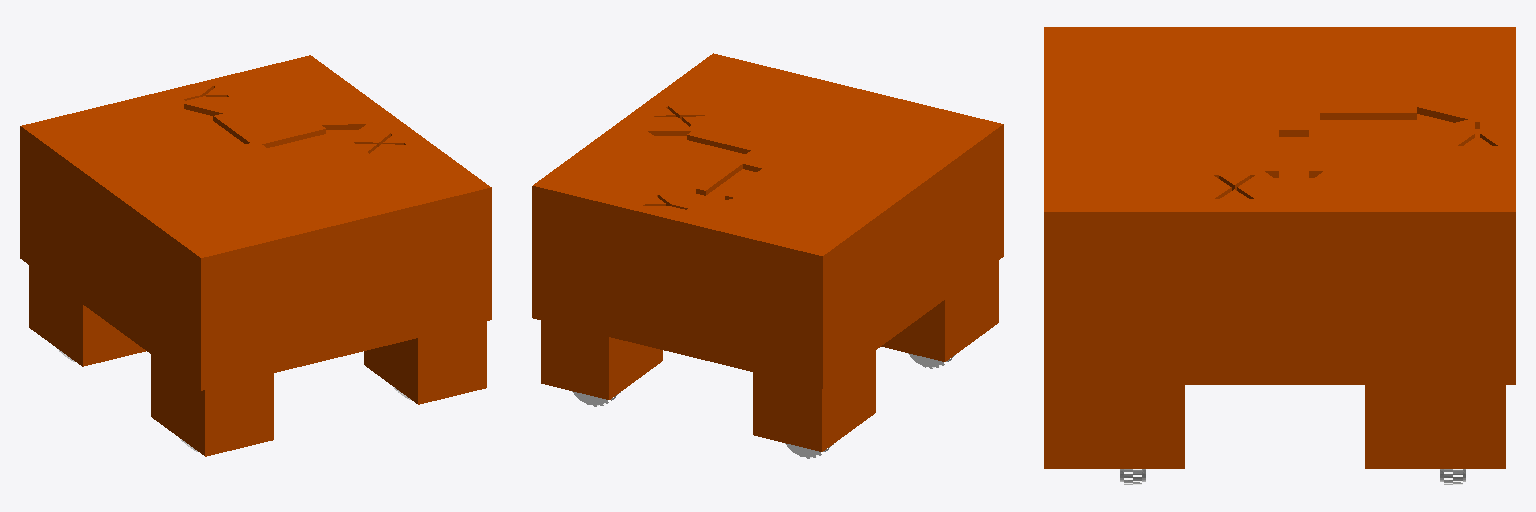
The robot description file, URDF, robot "swerve-steer":
<?xml version="1.0" ?>
<!-- =================================================================================== -->
<!-- |    This document was autogenerated by xacro from swerve_steer.xacro             | -->
<!-- |    EDITING THIS FILE BY HAND IS NOT RECOMMENDED                                 | -->
<!-- =================================================================================== -->
<robot name="swerve-steer" xmlns:xacro="http://www.ros.org/wiki/xacro">
  <!-- *************************** XACRO MACROS *************************** -->
  <!-- Parent Frame = a frame fixed to the base, centered on the axis of rotation for this flipper's steering DOF -->
  <!-- ************************* ROBOT DEFINITION ************************* -->
  <link name="world"/>
  <joint name="world_base" type="floating">
    <origin rpy="0 0 0" xyz="0 0 0"/>
    <parent link="world"/>
    <child link="dummy"/>
  </joint>
  <!-- just for visualization: base post -->
  <link name="dummy"/>
  <joint name="dummy_to_base" type="fixed">
    <origin rpy="0 0 0" xyz="0 0 0"/>
    <parent link="dummy"/>
    <child link="base_link"/>
  </joint>
  <link name="map"/>
  <joint name="world_map" type="fixed">
    <origin rpy="0 0 0" xyz="0 0 0"/>
    <parent link="world"/>
    <child link="map"/>
  </joint>
  <link name="base_link">
    <visual>
      <origin rpy="0 0 0" xyz="0 0 0"/>
      <geometry>
        <mesh filename="package://swerve_steer_description/meshes/Main_Box_Visual.stl"/>
      </geometry>
      <material name="burnt_orange">
        <color rgba="0.8 0.33 0.0 1"/>
      </material>
    </visual>
    <collision>
      <origin rpy="0 0 0" xyz="0 0 0"/>
      <geometry>
        <mesh filename="package://swerve_steer_description/meshes/Main_Box_Collision.stl"/>
      </geometry>
    </collision>
    <inertial>
      <origin rpy="0 0 0" xyz="0 0 0"/>
      <mass value="50"/>
      <inertia ixx="0.01" ixy="0.01" ixz="0.1" iyy="0.02" iyz="0.1" izz="0.02"/>
    </inertial>
  </link>
  <!--~~~~~~~~~~~~~~~~~~~ STEERING JOINT ~~~~~~~~~~~~~~~~~~~~~~~~~~~~~~~~~~~~~~~~-->
  <link name="module_1/steer">
    <visual>
      <origin rpy="0 0 0" xyz="0 0 0"/>
      <geometry>
        <mesh filename="package://swerve_steer_description/meshes/Steer.stl"/>
      </geometry>
      <material name="black">
        <color rgba="0 0 0 1"/>
      </material>
    </visual>
    <collision>
      <origin rpy="0 0 0" xyz="0 0 0"/>
      <geometry>
        <mesh filename="package://swerve_steer_description/meshes/Steer.stl"/>
      </geometry>
    </collision>
    <inertial>
      <origin rpy="0 0 0" xyz="0 0 0"/>
      <mass value="3.92"/>
      <inertia ixx="0.01" ixy="0.01" ixz="0.1" iyy="0.02" iyz="0.1" izz="0.02"/>
    </inertial>
  </link>
  <joint name="module_1/steering" type="continuous">
    <parent link="base_link"/>
    <child link="module_1/steer"/>
    <origin rpy="0 0 0" xyz="0.2159 0.2159 0"/>
    <axis xyz="0 0 1"/>
    <limit effort="104" velocity="0.8"/>
    <joint_properties damping="0.0" friction="0.0"/>
  </joint>
  <!--~~~~~~~~~~~~~~~~~~~~~~ WHEEL JOINT ~~~~~~~~~~~~~~~~~~~~~~~~~~~~~~~~~~~~~~~~-->
  <link name="module_1/wheel">
    <visual>
      <origin rpy="0 0 0" xyz="0 0 0"/>
      <geometry>
        <mesh filename="package://swerve_steer_description/meshes/Wheel_Visual.stl"/>
      </geometry>
      <material name="white">
        <color rgba="1 1 1 1"/>
      </material>
    </visual>
    <collision>
      <origin rpy="0 0 0" xyz="0 0 0"/>
      <geometry>
        <mesh filename="package://swerve_steer_description/meshes/Wheel_Collision.stl"/>
      </geometry>
    </collision>
    <inertial>
      <origin rpy="0 0 0" xyz="0 0 0"/>
      <mass value="1.6"/>
      <inertia ixx="0.01" ixy="0.01" ixz="0.1" iyy="0.02" iyz="0.1" izz="0.02"/>
    </inertial>
  </link>
  <joint name="module_1/drive" type="continuous">
    <parent link="module_1/steer"/>
    <child link="module_1/wheel"/>
    <origin rpy="0 0 0" xyz="0 0 0"/>
    <axis xyz="0 1 0"/>
    <limit effort="19" velocity="3.14"/>
    <joint_properties damping="0.0" friction="0.5"/>
  </joint>
  <!--~~~~~~~~~~~~~~~~~~~ STEERING JOINT ~~~~~~~~~~~~~~~~~~~~~~~~~~~~~~~~~~~~~~~~-->
  <link name="module_2/steer">
    <visual>
      <origin rpy="0 0 0" xyz="0 0 0"/>
      <geometry>
        <mesh filename="package://swerve_steer_description/meshes/Steer.stl"/>
      </geometry>
      <material name="black">
        <color rgba="0 0 0 1"/>
      </material>
    </visual>
    <collision>
      <origin rpy="0 0 0" xyz="0 0 0"/>
      <geometry>
        <mesh filename="package://swerve_steer_description/meshes/Steer.stl"/>
      </geometry>
    </collision>
    <inertial>
      <origin rpy="0 0 0" xyz="0 0 0"/>
      <mass value="3.92"/>
      <inertia ixx="0.01" ixy="0.01" ixz="0.1" iyy="0.02" iyz="0.1" izz="0.02"/>
    </inertial>
  </link>
  <joint name="module_2/steering" type="continuous">
    <parent link="base_link"/>
    <child link="module_2/steer"/>
    <origin rpy="0 0 0" xyz="-0.2159 0.2159 0"/>
    <axis xyz="0 0 1"/>
    <limit effort="104" velocity="0.8"/>
    <joint_properties damping="0.0" friction="0.0"/>
  </joint>
  <!--~~~~~~~~~~~~~~~~~~~~~~ WHEEL JOINT ~~~~~~~~~~~~~~~~~~~~~~~~~~~~~~~~~~~~~~~~-->
  <link name="module_2/wheel">
    <visual>
      <origin rpy="0 0 0" xyz="0 0 0"/>
      <geometry>
        <mesh filename="package://swerve_steer_description/meshes/Wheel_Visual.stl"/>
      </geometry>
      <material name="white">
        <color rgba="1 1 1 1"/>
      </material>
    </visual>
    <collision>
      <origin rpy="0 0 0" xyz="0 0 0"/>
      <geometry>
        <mesh filename="package://swerve_steer_description/meshes/Wheel_Collision.stl"/>
      </geometry>
    </collision>
    <inertial>
      <origin rpy="0 0 0" xyz="0 0 0"/>
      <mass value="1.6"/>
      <inertia ixx="0.01" ixy="0.01" ixz="0.1" iyy="0.02" iyz="0.1" izz="0.02"/>
    </inertial>
  </link>
  <joint name="module_2/drive" type="continuous">
    <parent link="module_2/steer"/>
    <child link="module_2/wheel"/>
    <origin rpy="0 0 0" xyz="0 0 0"/>
    <axis xyz="0 1 0"/>
    <limit effort="19" velocity="3.14"/>
    <joint_properties damping="0.0" friction="0.5"/>
  </joint>
  <!--~~~~~~~~~~~~~~~~~~~ STEERING JOINT ~~~~~~~~~~~~~~~~~~~~~~~~~~~~~~~~~~~~~~~~-->
  <link name="module_3/steer">
    <visual>
      <origin rpy="0 0 0" xyz="0 0 0"/>
      <geometry>
        <mesh filename="package://swerve_steer_description/meshes/Steer.stl"/>
      </geometry>
      <material name="black">
        <color rgba="0 0 0 1"/>
      </material>
    </visual>
    <collision>
      <origin rpy="0 0 0" xyz="0 0 0"/>
      <geometry>
        <mesh filename="package://swerve_steer_description/meshes/Steer.stl"/>
      </geometry>
    </collision>
    <inertial>
      <origin rpy="0 0 0" xyz="0 0 0"/>
      <mass value="3.92"/>
      <inertia ixx="0.01" ixy="0.01" ixz="0.1" iyy="0.02" iyz="0.1" izz="0.02"/>
    </inertial>
  </link>
  <joint name="module_3/steering" type="continuous">
    <parent link="base_link"/>
    <child link="module_3/steer"/>
    <origin rpy="0 0 0" xyz="-0.2159 -0.2159 0"/>
    <axis xyz="0 0 1"/>
    <limit effort="104" velocity="0.8"/>
    <joint_properties damping="0.0" friction="0.0"/>
  </joint>
  <!--~~~~~~~~~~~~~~~~~~~~~~ WHEEL JOINT ~~~~~~~~~~~~~~~~~~~~~~~~~~~~~~~~~~~~~~~~-->
  <link name="module_3/wheel">
    <visual>
      <origin rpy="0 0 0" xyz="0 0 0"/>
      <geometry>
        <mesh filename="package://swerve_steer_description/meshes/Wheel_Visual.stl"/>
      </geometry>
      <material name="white">
        <color rgba="1 1 1 1"/>
      </material>
    </visual>
    <collision>
      <origin rpy="0 0 0" xyz="0 0 0"/>
      <geometry>
        <mesh filename="package://swerve_steer_description/meshes/Wheel_Collision.stl"/>
      </geometry>
    </collision>
    <inertial>
      <origin rpy="0 0 0" xyz="0 0 0"/>
      <mass value="1.6"/>
      <inertia ixx="0.01" ixy="0.01" ixz="0.1" iyy="0.02" iyz="0.1" izz="0.02"/>
    </inertial>
  </link>
  <joint name="module_3/drive" type="continuous">
    <parent link="module_3/steer"/>
    <child link="module_3/wheel"/>
    <origin rpy="0 0 0" xyz="0 0 0"/>
    <axis xyz="0 1 0"/>
    <limit effort="19" velocity="3.14"/>
    <joint_properties damping="0.0" friction="0.5"/>
  </joint>
  <!--~~~~~~~~~~~~~~~~~~~ STEERING JOINT ~~~~~~~~~~~~~~~~~~~~~~~~~~~~~~~~~~~~~~~~-->
  <link name="module_4/steer">
    <visual>
      <origin rpy="0 0 0" xyz="0 0 0"/>
      <geometry>
        <mesh filename="package://swerve_steer_description/meshes/Steer.stl"/>
      </geometry>
      <material name="black">
        <color rgba="0 0 0 1"/>
      </material>
    </visual>
    <collision>
      <origin rpy="0 0 0" xyz="0 0 0"/>
      <geometry>
        <mesh filename="package://swerve_steer_description/meshes/Steer.stl"/>
      </geometry>
    </collision>
    <inertial>
      <origin rpy="0 0 0" xyz="0 0 0"/>
      <mass value="3.92"/>
      <inertia ixx="0.01" ixy="0.01" ixz="0.1" iyy="0.02" iyz="0.1" izz="0.02"/>
    </inertial>
  </link>
  <joint name="module_4/steering" type="continuous">
    <parent link="base_link"/>
    <child link="module_4/steer"/>
    <origin rpy="0 0 0" xyz="0.2159 -0.2159 0"/>
    <axis xyz="0 0 1"/>
    <limit effort="104" velocity="0.8"/>
    <joint_properties damping="0.0" friction="0.0"/>
  </joint>
  <!--~~~~~~~~~~~~~~~~~~~~~~ WHEEL JOINT ~~~~~~~~~~~~~~~~~~~~~~~~~~~~~~~~~~~~~~~~-->
  <link name="module_4/wheel">
    <visual>
      <origin rpy="0 0 0" xyz="0 0 0"/>
      <geometry>
        <mesh filename="package://swerve_steer_description/meshes/Wheel_Visual.stl"/>
      </geometry>
      <material name="white">
        <color rgba="1 1 1 1"/>
      </material>
    </visual>
    <collision>
      <origin rpy="0 0 0" xyz="0 0 0"/>
      <geometry>
        <mesh filename="package://swerve_steer_description/meshes/Wheel_Collision.stl"/>
      </geometry>
    </collision>
    <inertial>
      <origin rpy="0 0 0" xyz="0 0 0"/>
      <mass value="1.6"/>
      <inertia ixx="0.01" ixy="0.01" ixz="0.1" iyy="0.02" iyz="0.1" izz="0.02"/>
    </inertial>
  </link>
  <joint name="module_4/drive" type="continuous">
    <parent link="module_4/steer"/>
    <child link="module_4/wheel"/>
    <origin rpy="0 0 0" xyz="0 0 0"/>
    <axis xyz="0 1 0"/>
    <limit effort="19" velocity="3.14"/>
    <joint_properties damping="0.0" friction="0.5"/>
  </joint>
</robot>

--- Render facts (derived) ---
3 views of the same robot in one strip: view 1: azimuth 30°, elevation 25°; view 2: azimuth 150°, elevation 25°; view 3: azimuth 270°, elevation 25° (orthographic).
Model swerve-steer with 12 links and 11 joints (8 continuous, 2 fixed, 1 floating), rooted at world, posed all joints at 0.
Visible links, largest first — view 1: base_link; view 2: base_link; view 3: base_link.
Link boxes in pixels (left/top/right/bottom): base_link: left=20, top=55, right=491, bottom=456; base_link: left=532, top=53, right=1003, bottom=451; base_link: left=1044, top=27, right=1515, bottom=468.
Bounding box of the posed robot: 0.5888 × 0.635 × 0.4377 m (x, y, z).
Meshes: 3 distinct files referenced, 9 mesh visuals loaded (3 binary STL).